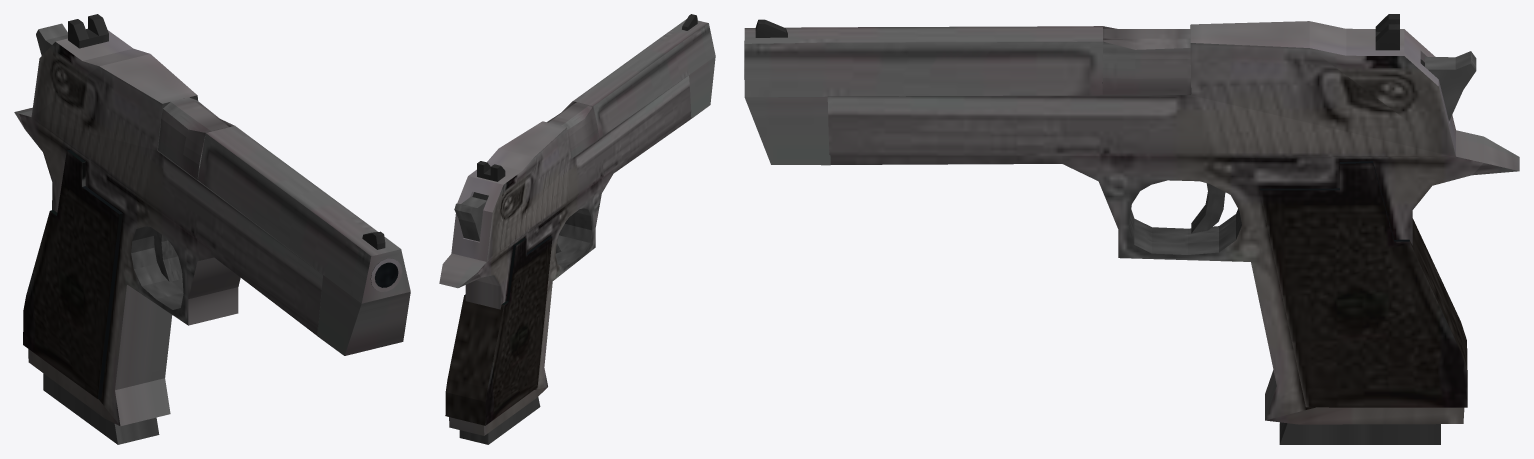
The model's file is Deagle.fbx.
The picture shows the model from 3 angles, left to right: view 1: azimuth 30°, elevation 25°; view 2: azimuth 150°, elevation 25°; view 3: azimuth 270°, elevation 25°; orthographic projection. The views are drawn at different scales.
Parts seen in each view (by area): view 1: Cube.007, Cube.006, Cube.003, Cube.004, Cube.005; view 2: Cube.007, Cube.006, Cube.005, Cube.003; view 3: Cube.007, Cube.006, Cube.003, Cube.005, Cube.004.
Part boxes in pixels (left/top/right/bottom): Cube.007: left=14, top=97, right=410, bottom=426; Cube.006: left=31, top=14, right=323, bottom=326; Cube.003: left=43, top=373, right=159, bottom=444; Cube.004: left=153, top=229, right=182, bottom=281; Cube.005: left=36, top=23, right=67, bottom=55; Cube.007: left=439, top=14, right=715, bottom=435; Cube.006: left=451, top=75, right=691, bottom=261; Cube.005: left=454, top=196, right=486, bottom=241; Cube.003: left=459, top=397, right=540, bottom=444; Cube.007: left=744, top=19, right=1519, bottom=424; Cube.006: left=827, top=14, right=1455, bottom=157; Cube.003: left=1279, top=422, right=1440, bottom=444; Cube.005: left=1425, top=51, right=1476, bottom=121; Cube.004: left=1191, top=183, right=1225, bottom=233.
Size of the model in its own units: 3.14 by 19.41 by 33.09.
1 material, 1 textured.
